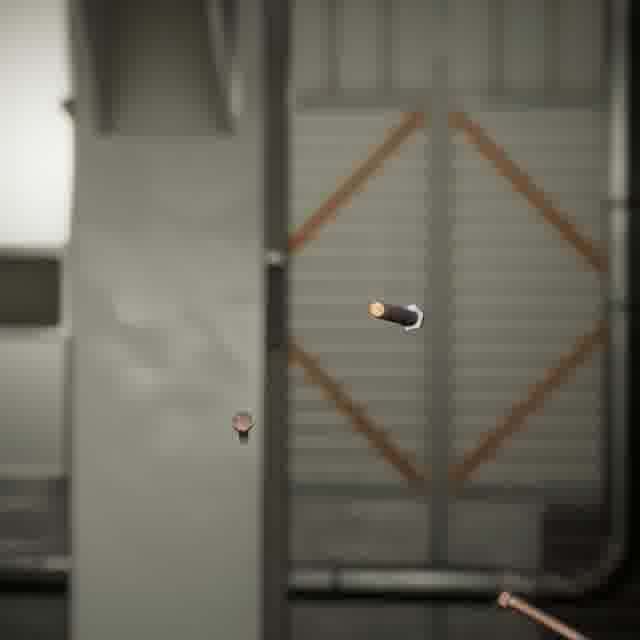bolt: (492, 580, 597, 640), (365, 296, 429, 335), (228, 407, 257, 450)
